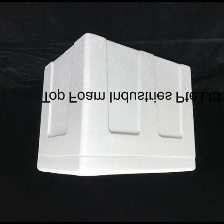foam_box: (29, 28, 201, 182)
